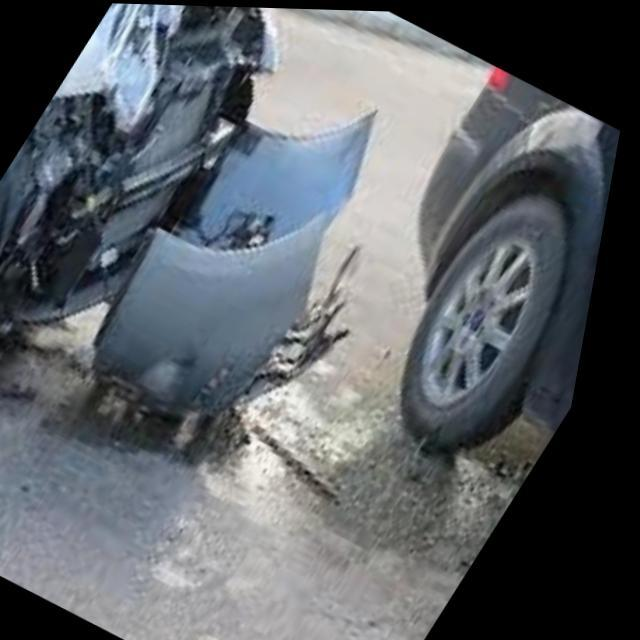dislocated part: (0, 3, 377, 416)
